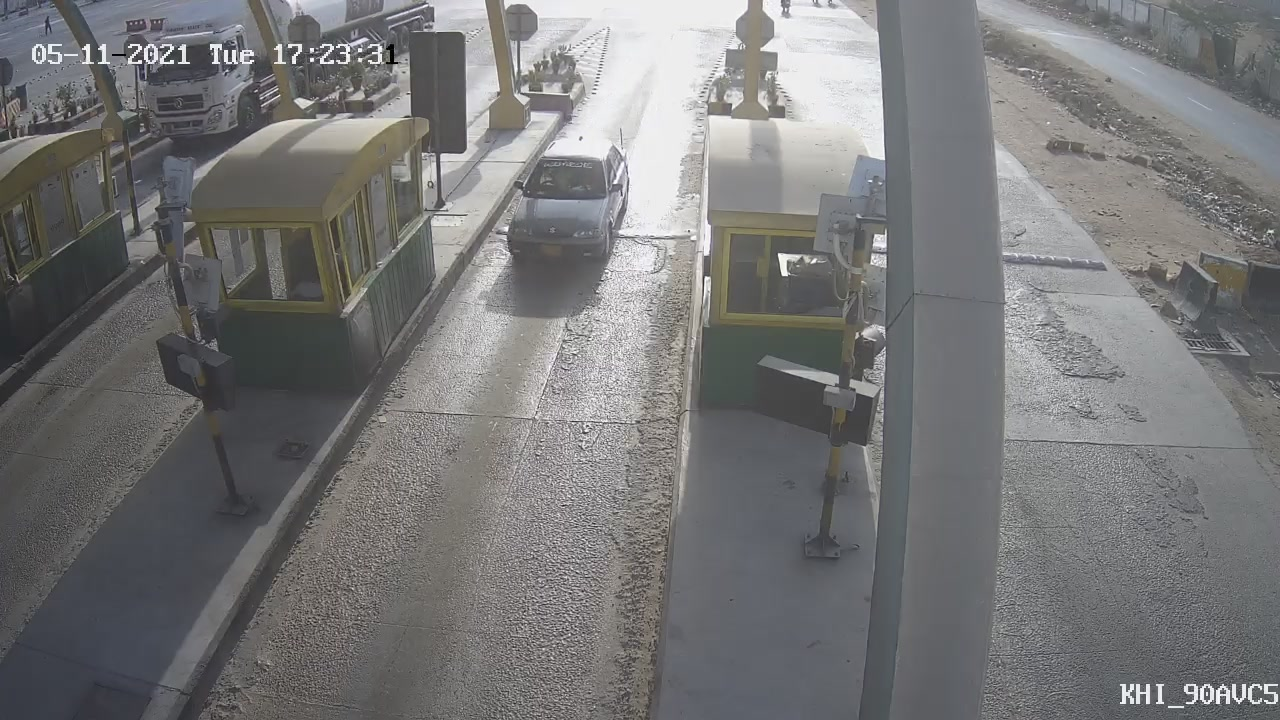F1: (481, 118, 652, 291)
